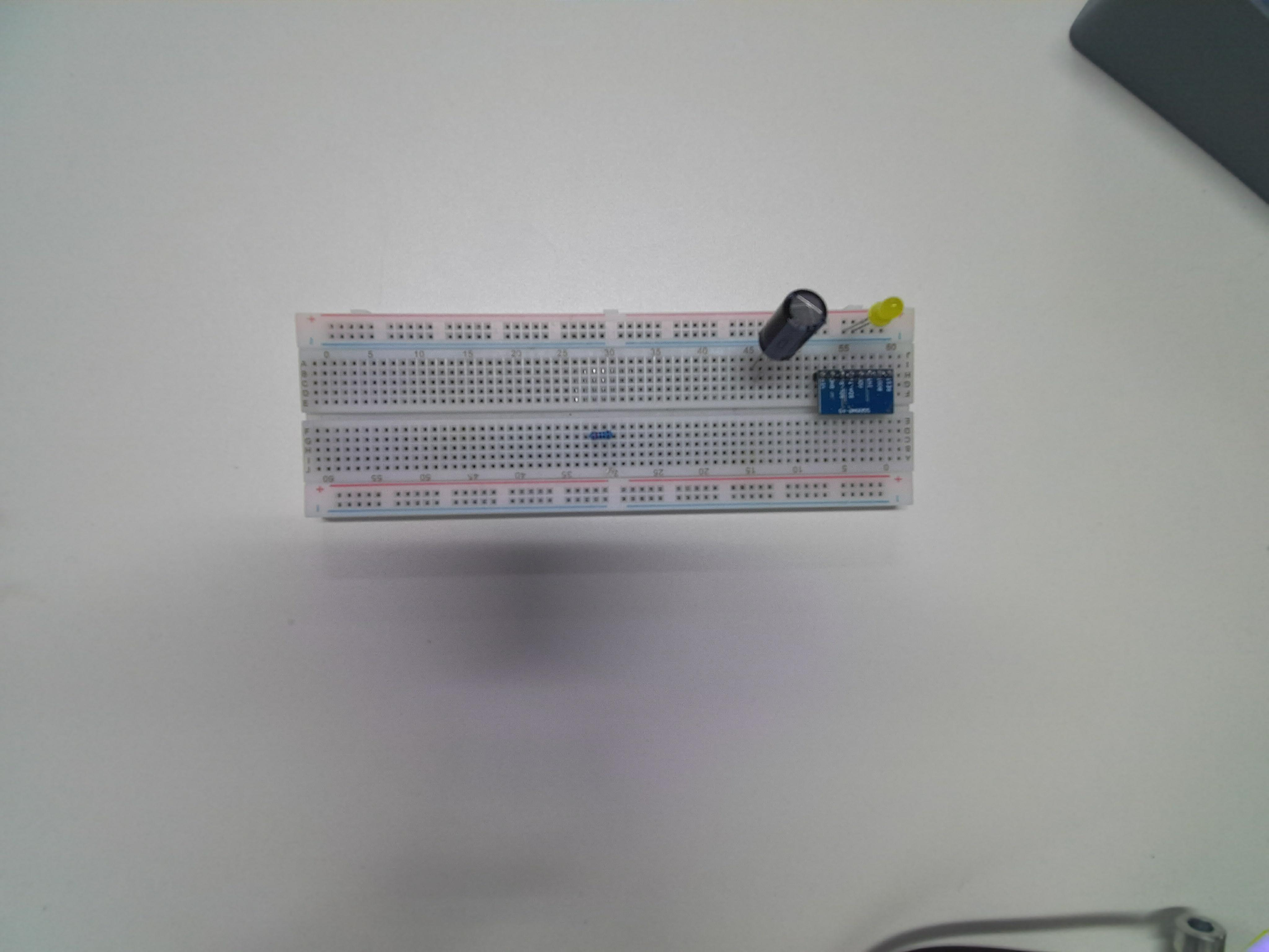base: (292, 296, 914, 522)
blue-board: (814, 364, 896, 418)
capacitor: (757, 285, 831, 365)
resistor-small: (584, 426, 615, 448)
yellow-led: (868, 297, 904, 330)
